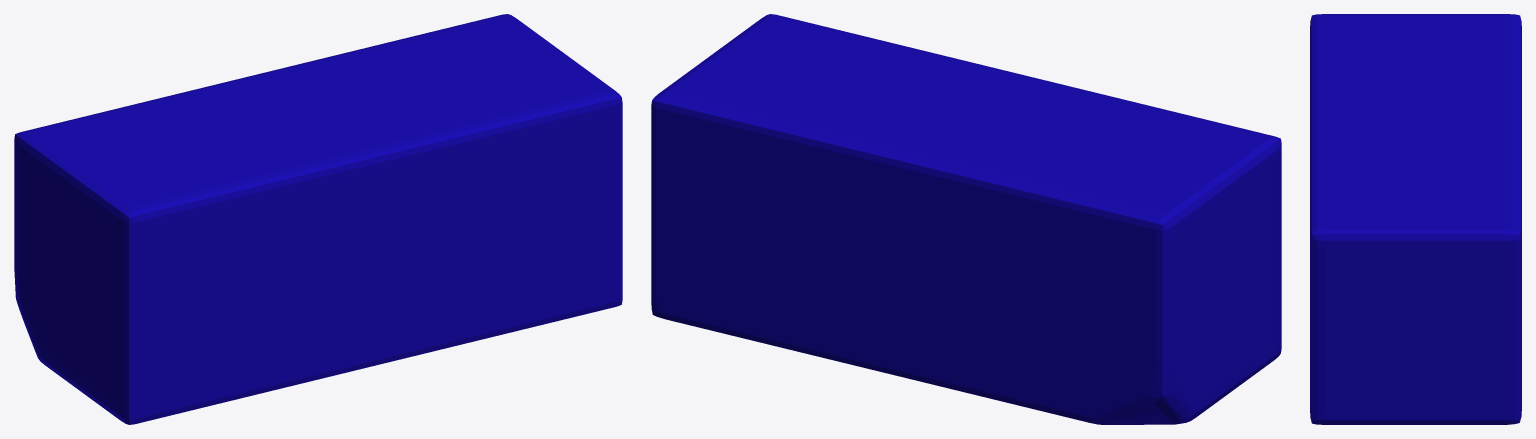
File: right_shoulder_pitch_link_part_5.obj
3 views of the same model, side by side, from view 1: azimuth 30°, elevation 25°; view 2: azimuth 150°, elevation 25°; view 3: azimuth 270°, elevation 25° (orthographic). The views are drawn at different scales.
Size of the model in its own units: 0.0673 by 0.0274 by 0.0271.
